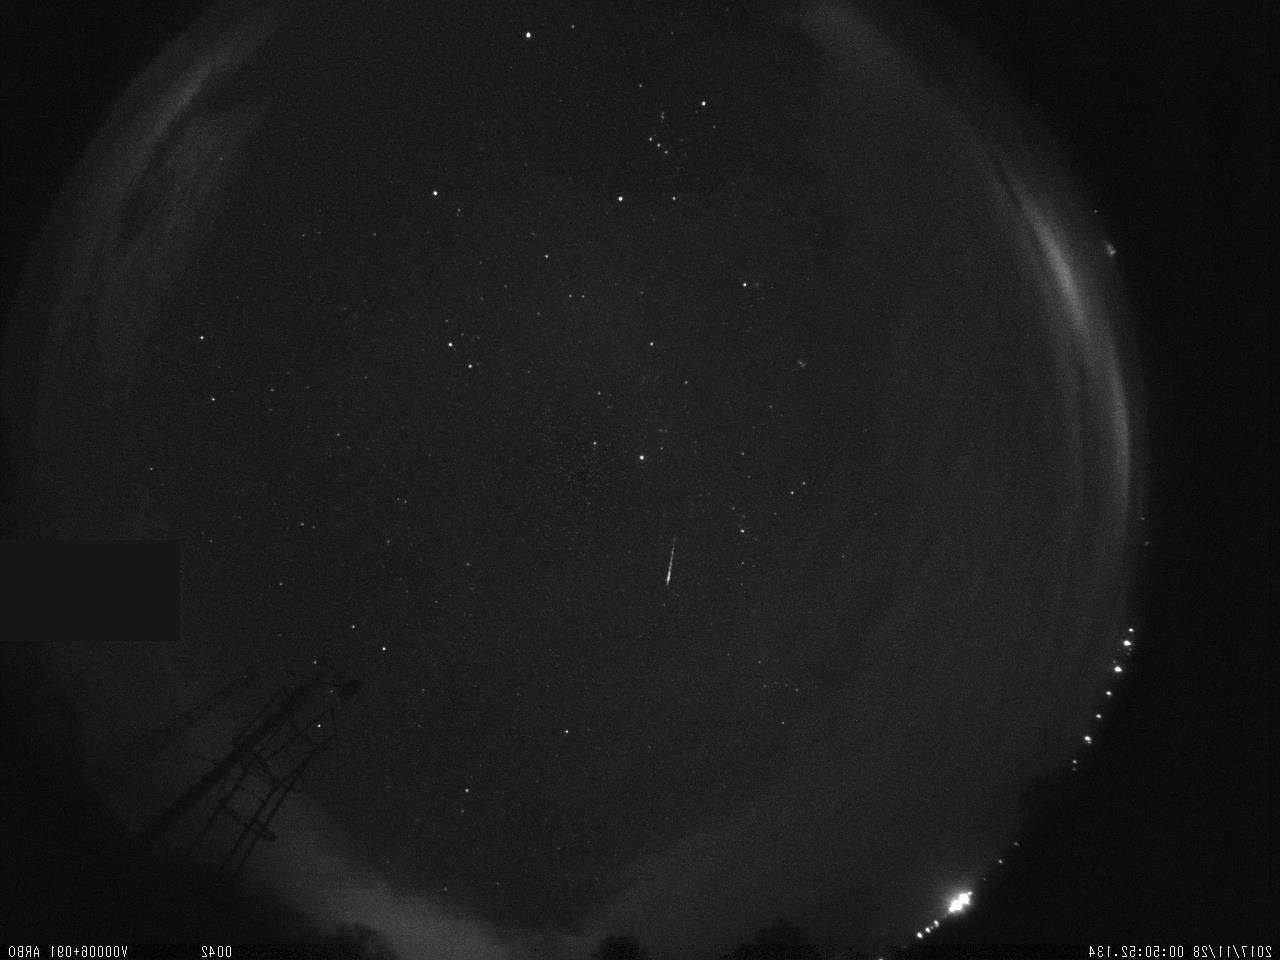meteor: (646, 527, 697, 595)
